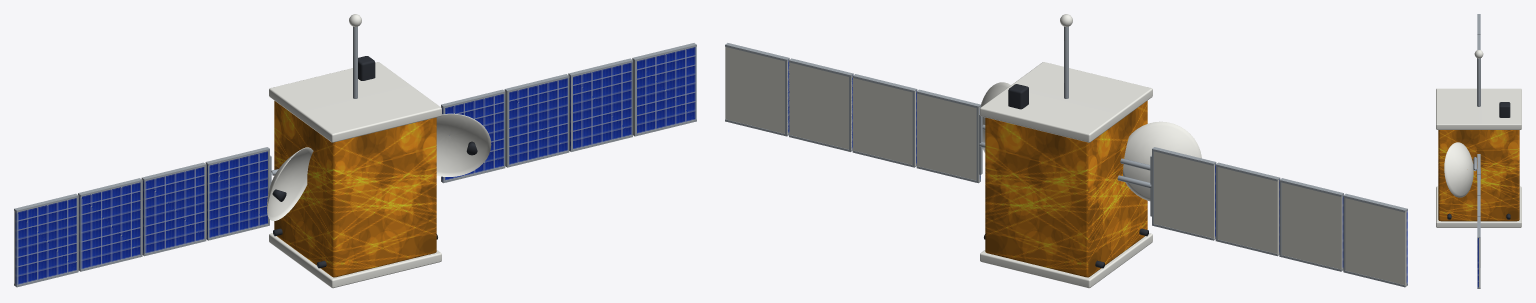
The model's file is satellite.glb.
3 views of the same model, side by side, from view 1: azimuth 30°, elevation 25°; view 2: azimuth 150°, elevation 25°; view 3: azimuth 270°, elevation 25° (orthographic). The views are drawn at different scales.
Parts seen in each view (by area): view 1: corps, cellules.005, panneau_g3, cellules.006, panneau_d3, cellules.001, cellules.002, cellules.004, cellules; view 2: corps, cellules.005, panneau_g3, cellules.006, panneau_d3, cellules.001, cellules.004, cellules.002, cellules; view 3: corps, panneau_d3, panneau_g3, cellules.002, cellules.001, cellules.
Boxes of the visible parts, box(x1,y1,x2,y2) form: corps: box(267, 14, 491, 288); cellules.005: box(141, 162, 206, 256); panneau_g3: box(14, 193, 78, 287); cellules.006: box(78, 178, 142, 271); panneau_d3: box(632, 43, 696, 136); cellules.001: box(504, 74, 569, 167); cellules.002: box(568, 58, 632, 151); cellules.004: box(205, 147, 269, 240); cellules: box(441, 89, 505, 183); corps: box(980, 14, 1201, 288); cellules.005: box(1215, 162, 1280, 256); panneau_g3: box(1343, 193, 1407, 287); cellules.006: box(1279, 178, 1343, 271); panneau_d3: box(725, 43, 789, 136); cellules.001: box(852, 74, 917, 167); cellules.004: box(1152, 147, 1216, 240); cellules.002: box(789, 58, 853, 151); cellules: box(916, 89, 980, 183); corps: box(1436, 50, 1521, 227); panneau_d3: box(1477, 217, 1480, 288); panneau_g3: box(1477, 14, 1480, 34); cellules.002: box(1477, 196, 1480, 216); cellules.001: box(1477, 175, 1480, 195); cellules: box(1477, 154, 1480, 174).
Size of the model in its own units: 1.43 by 0.532 by 0.232.
6 materials, 2 textured.
